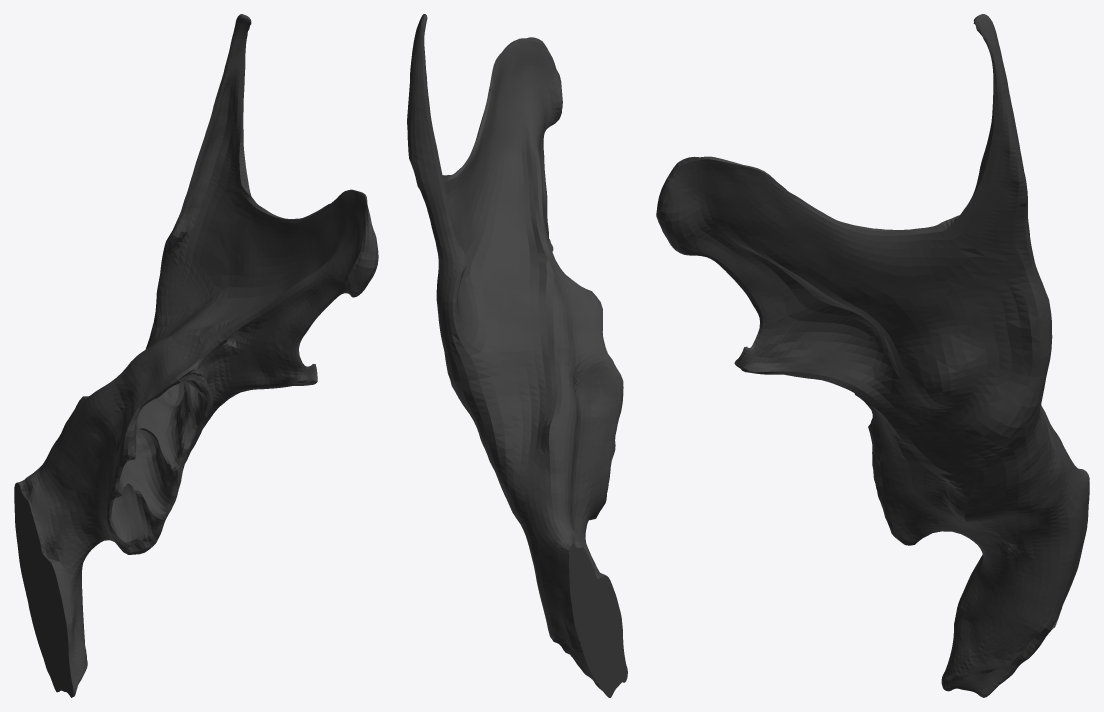
Rendered from chin_skull_L_018.glb.
3 renders of one model, left to right at view 1: azimuth 30°, elevation 25°; view 2: azimuth 150°, elevation 25°; view 3: azimuth 270°, elevation 25°, orthographic. The views are drawn at different scales.
Visible parts, largest first — view 1: chin_skull_L_018; view 2: chin_skull_L_018; view 3: chin_skull_L_018.
Part boxes in pixels (x1=…): chin_skull_L_018: x1=14, y1=14, x2=378, y2=697; chin_skull_L_018: x1=407, y1=14, x2=627, y2=697; chin_skull_L_018: x1=656, y1=14, x2=1089, y2=697.
Size of the model in its own units: 0.5727 by 1.69 by 0.8342.
Materials: 1 (1 with a texture image).
